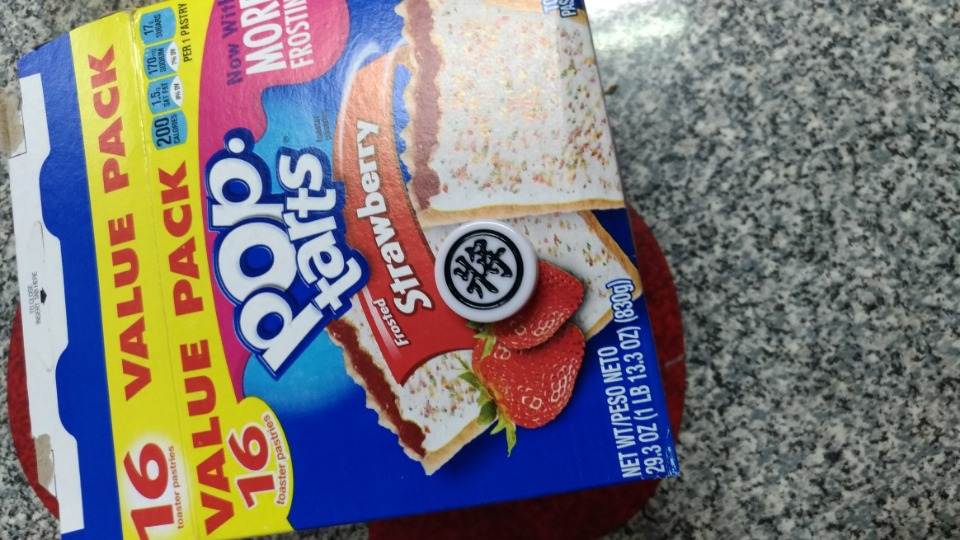b-king: (414, 210, 560, 342)
